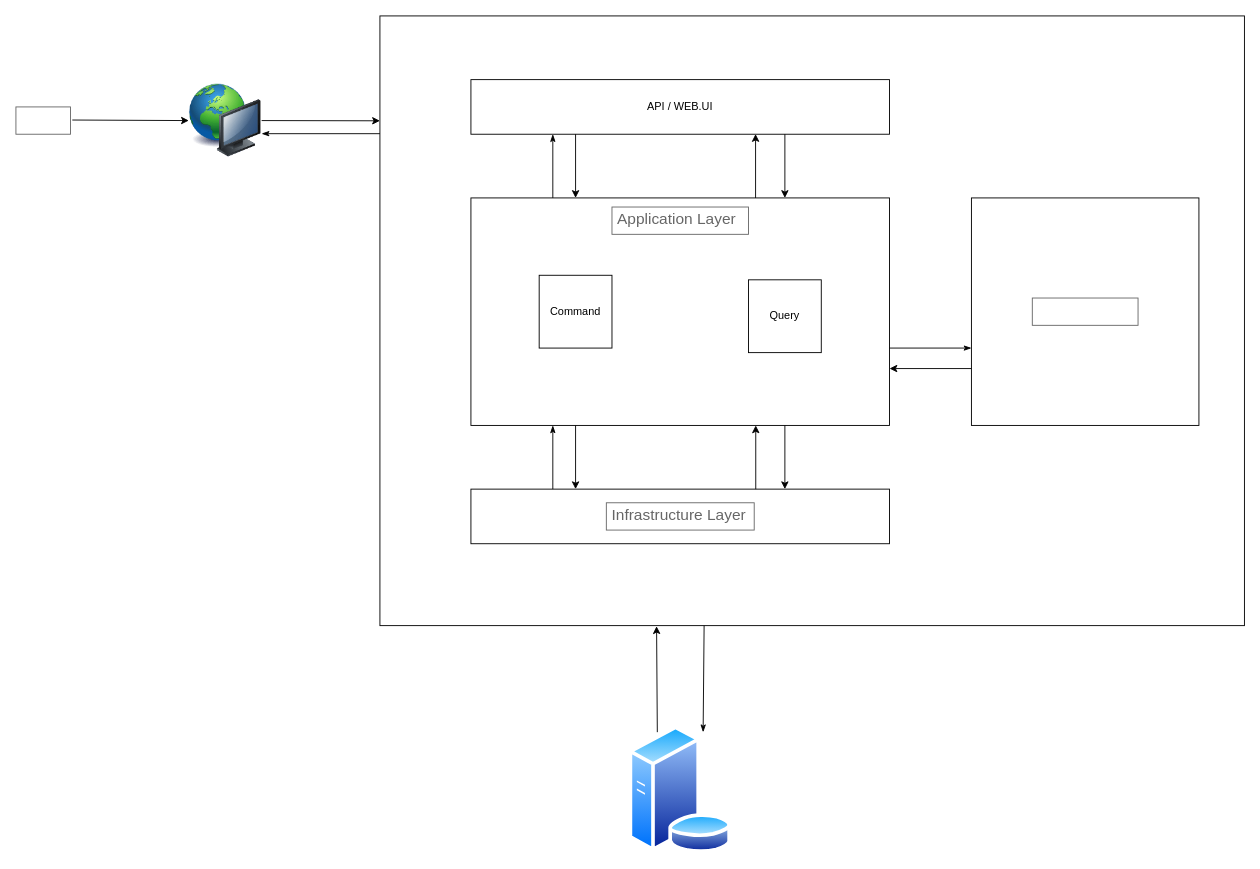
The diagram is 1260 pixels wide and 869 high, and some of its shapes have lost their labels. The shapes that lost their labels are listed below. From the top down, each one's box as (x1, y1, x2, y2) in pixels, then its label:
(15, 106, 71, 134): Users
(1031, 297, 1138, 325): Domain Layer
